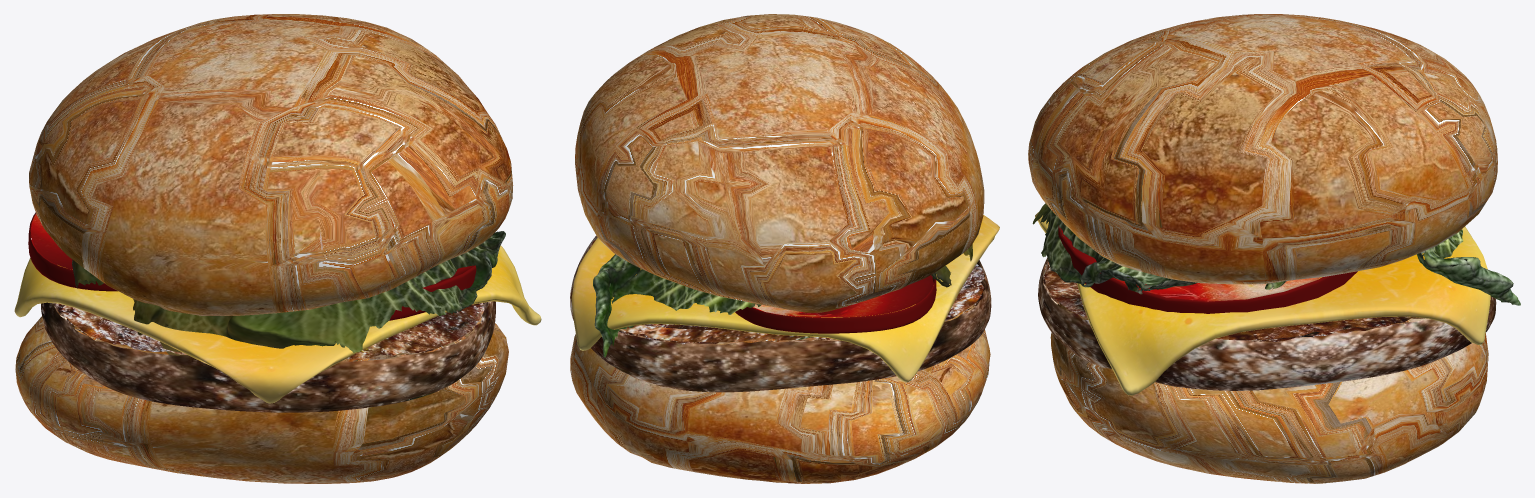
The model's file is burger-terrien-legendaire.glb.
3 renders of one model, left to right at view 1: azimuth 30°, elevation 25°; view 2: azimuth 150°, elevation 25°; view 3: azimuth 270°, elevation 25°, orthographic. The views are drawn at different scales.
Parts seen in each view (by area): view 1: Bread2A_Bread2A_0, Bread2B_Bread2A_0, Patty2, Cheese2, Cabbage2_Cabbage2_0, Tomato003, Tomato2A; view 2: Bread2A_Bread2A_0, Bread2B_Bread2A_0, Patty2, Cheese2, Tomato003, Cabbage2_Cabbage2_0; view 3: Bread2A_Bread2A_0, Bread2B_Bread2A_0, Patty2, Cheese2, Cabbage2_Cabbage2_0, Tomato2A.
Part boxes in pixels (left/top/right/bottom): Bread2A_Bread2A_0: left=29, top=14, right=513, bottom=315; Bread2B_Bread2A_0: left=15, top=316, right=508, bottom=483; Patty2: left=41, top=301, right=495, bottom=412; Cheese2: left=14, top=245, right=541, bottom=403; Cabbage2_Cabbage2_0: left=72, top=231, right=505, bottom=355; Tomato003: left=28, top=212, right=117, bottom=291; Tomato2A: left=389, top=265, right=476, bottom=320; Bread2A_Bread2A_0: left=575, top=14, right=984, bottom=312; Bread2B_Bread2A_0: left=570, top=304, right=990, bottom=483; Patty2: left=570, top=235, right=991, bottom=392; Cheese2: left=571, top=215, right=999, bottom=382; Tomato003: left=735, top=275, right=936, bottom=333; Cabbage2_Cabbage2_0: left=593, top=244, right=972, bottom=357; Bread2A_Bread2A_0: left=1028, top=14, right=1497, bottom=284; Bread2B_Bread2A_0: left=1050, top=303, right=1488, bottom=483; Patty2: left=1038, top=258, right=1496, bottom=390; Cheese2: left=1035, top=212, right=1490, bottom=395; Cabbage2_Cabbage2_0: left=1032, top=203, right=1520, bottom=305; Tomato2A: left=1058, top=225, right=1357, bottom=313.
Size of the model in its own units: 27.91 by 25.27 by 29.48.
7 materials, 6 textured.
